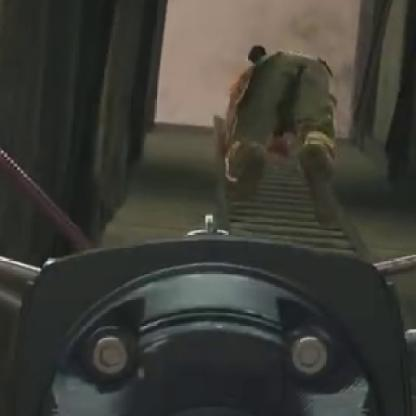enemy: (217, 46, 335, 210)
